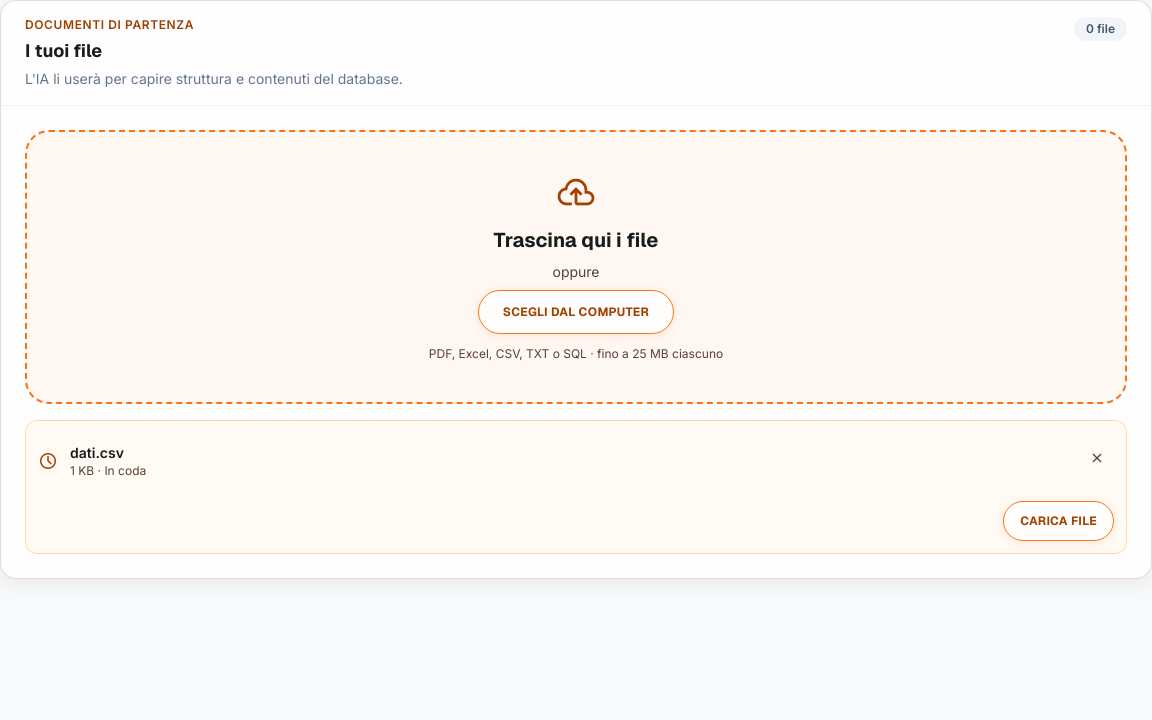
DocumentUploader › coda, stato per file e riprova › dopo 3 tentativi falliti mostra l'errore e il pulsante Riprova
Earlier steps of the test are not shown.
Click the button "Carica file".
click(1059, 521)  # box [1003,501,1114,541]
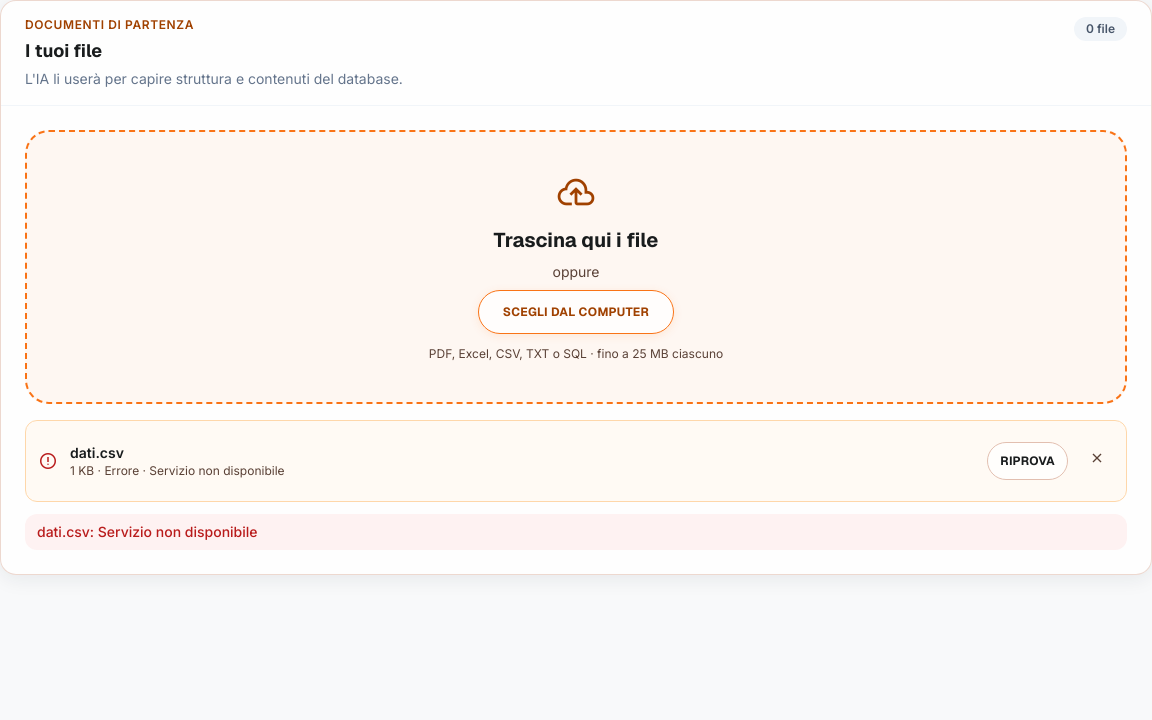
Click the button with aria-label "riprova a caricare dati.csv".
click(1028, 461)  # box [987,442,1068,480]
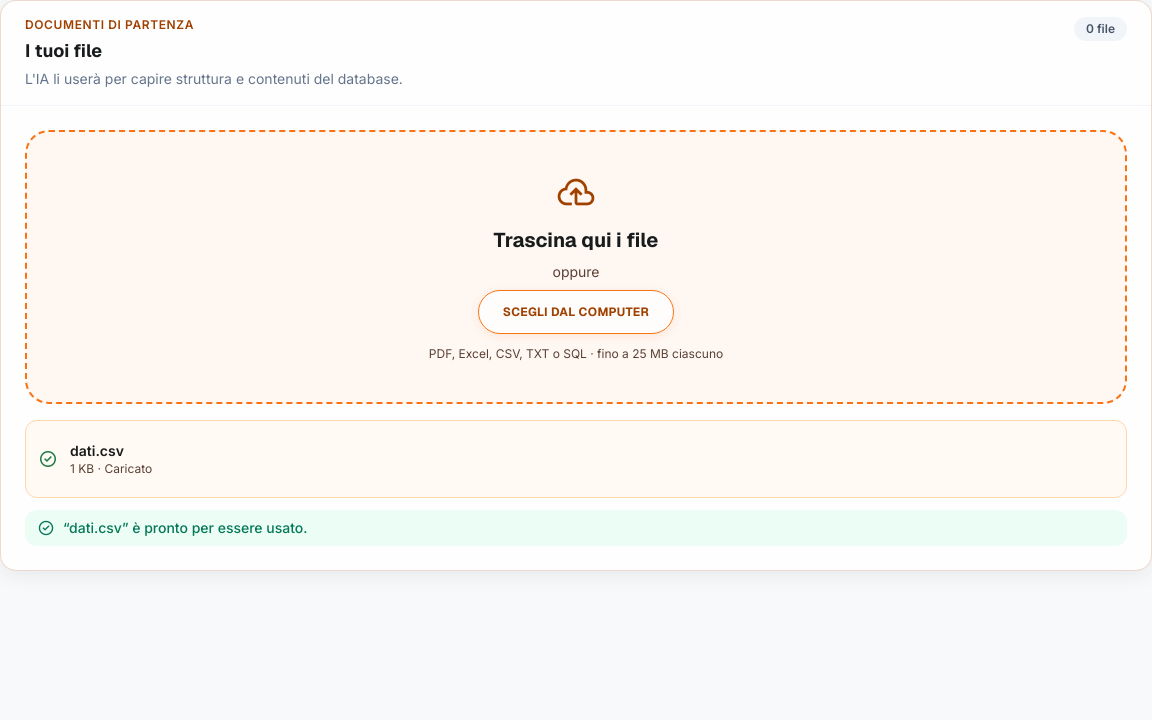
Expected: the text "“dati.csv” è pronto per essere usato." is shown, [25,510,1127,546]
